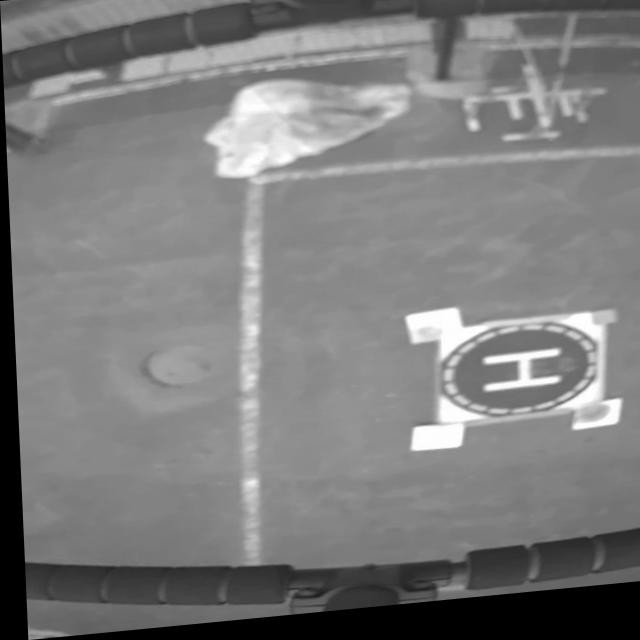Helipad: (478, 358, 557, 400)
